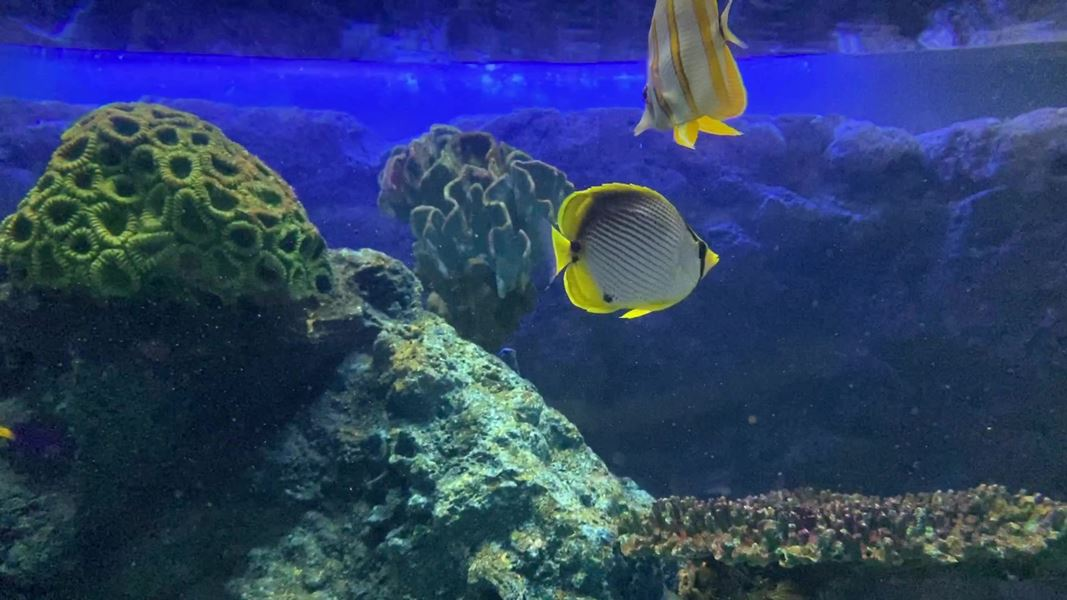Black-backed butterflyfish: (528, 174, 731, 329)
